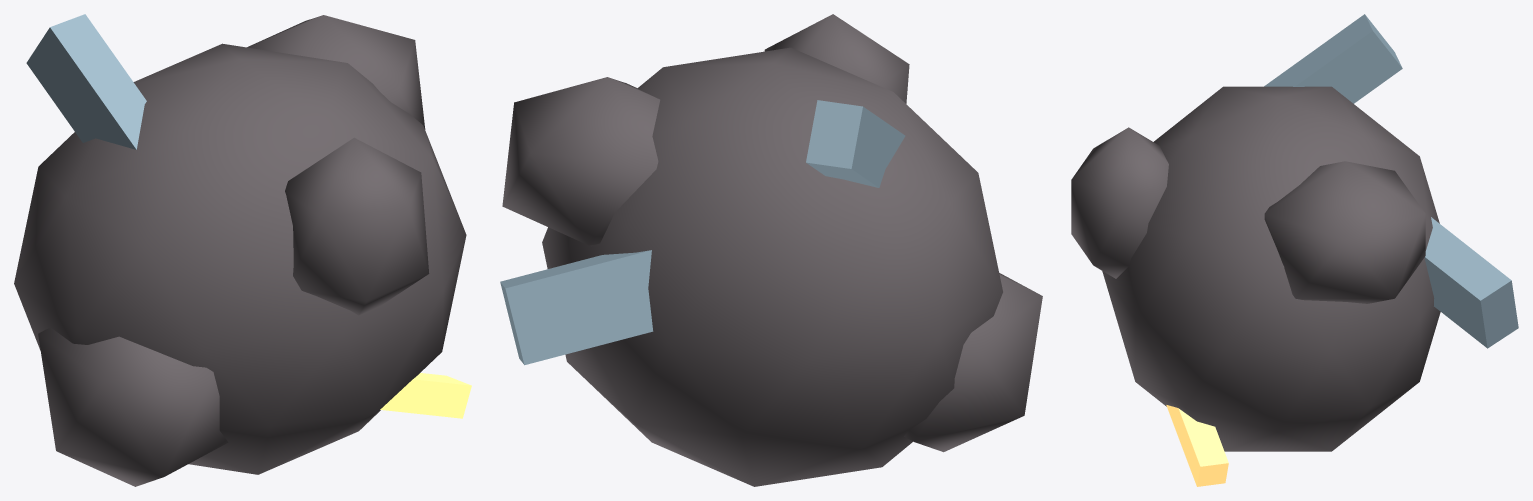
File: obstacle-asteroid.glb
The picture shows the model from 3 angles, left to right: view 1: azimuth 30°, elevation 25°; view 2: azimuth 150°, elevation 25°; view 3: azimuth 270°, elevation 25°; orthographic projection. The views are drawn at different scales.
Parts seen in each view (by area): view 1: 主岩体, 凸起B, 凸起C, 矿脉B, 凸起A, 余温缝; view 2: 主岩体, 凸起A, 矿脉A, 凸起B, 矿脉B, 凸起C; view 3: 主岩体, 凸起A, 凸起C, 矿脉A, 矿脉B, 余温缝.
Part boxes in pixels (x1,y1,x2,y2): 主岩体: (14, 43, 466, 474); 凸起B: (38, 327, 228, 486); 凸起C: (285, 137, 429, 315); 矿脉B: (26, 14, 146, 149); 凸起A: (247, 15, 425, 129); 余温缝: (380, 373, 471, 418); 主岩体: (542, 47, 1002, 486); 凸起A: (502, 77, 660, 246); 矿脉A: (500, 250, 653, 365); 凸起B: (904, 273, 1042, 452); 矿脉B: (806, 100, 905, 187); 凸起C: (764, 14, 909, 103); 主岩体: (1102, 86, 1440, 451); 凸起A: (1264, 161, 1425, 303); 凸起C: (1071, 127, 1168, 278); 矿脉A: (1424, 217, 1518, 348); 矿脉B: (1264, 14, 1402, 103); 余温缝: (1166, 405, 1228, 486).
Bounding box in the file's own units: 3.15 × 3 × 3.31.
